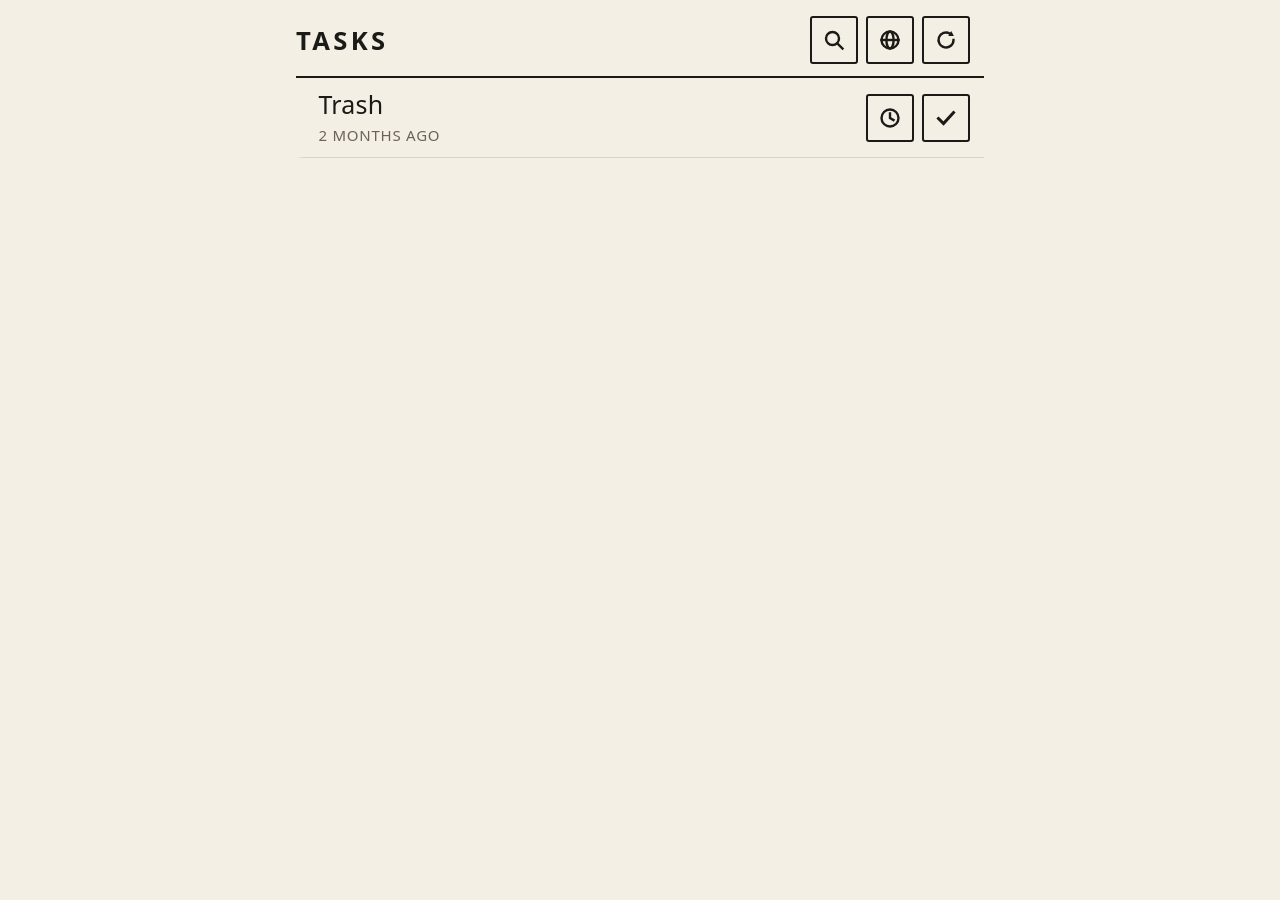
Test: App › search › says so when nothing matches
The width and height of the screenshot is (1280, 900).
Expected: the list item is shown, top-left (296, 78), bottom-right (984, 158)
Click the button named "Search tasks". click: {"x": 834, "y": 40}
box: top-left (810, 16), bottom-right (858, 64)
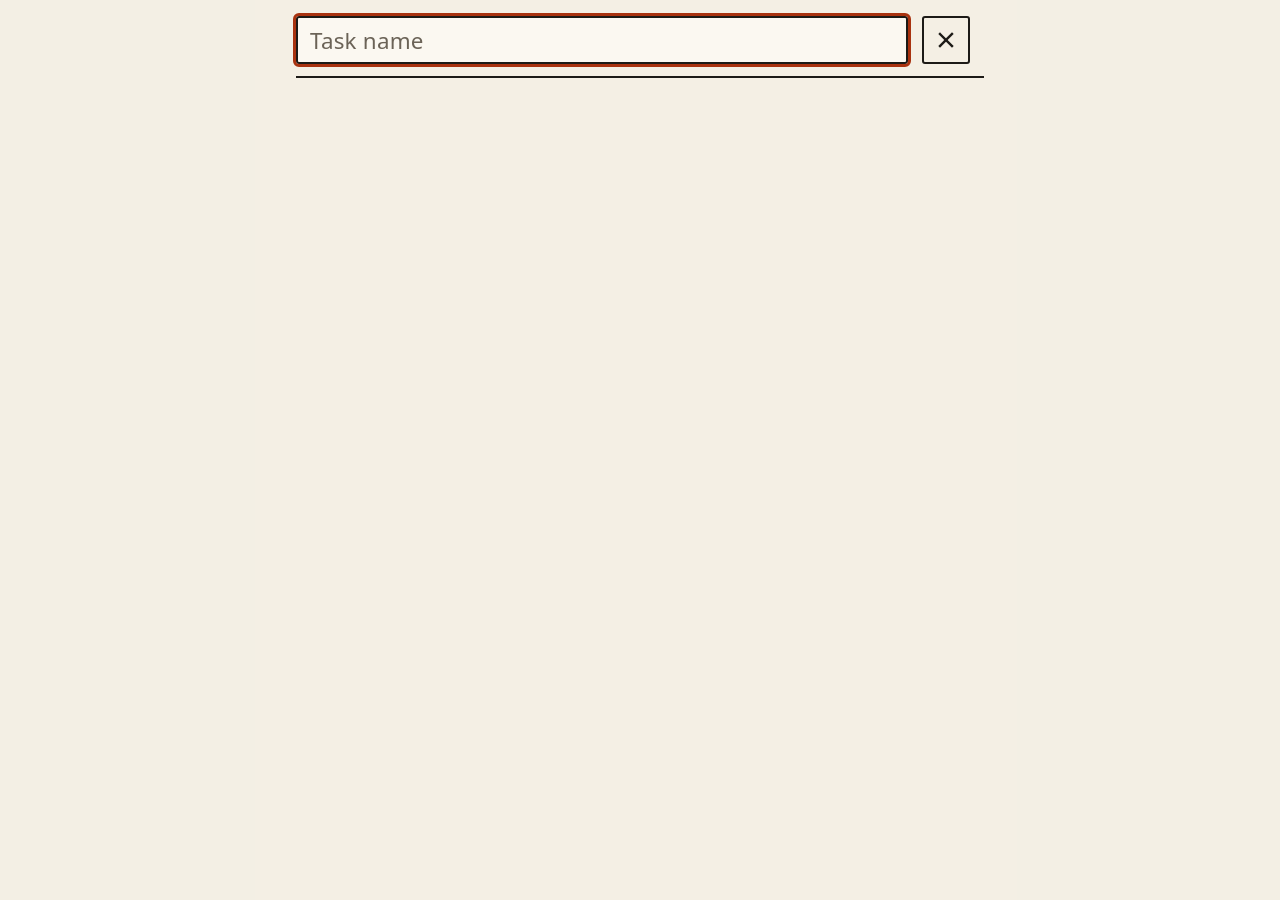
Type keys "plants"
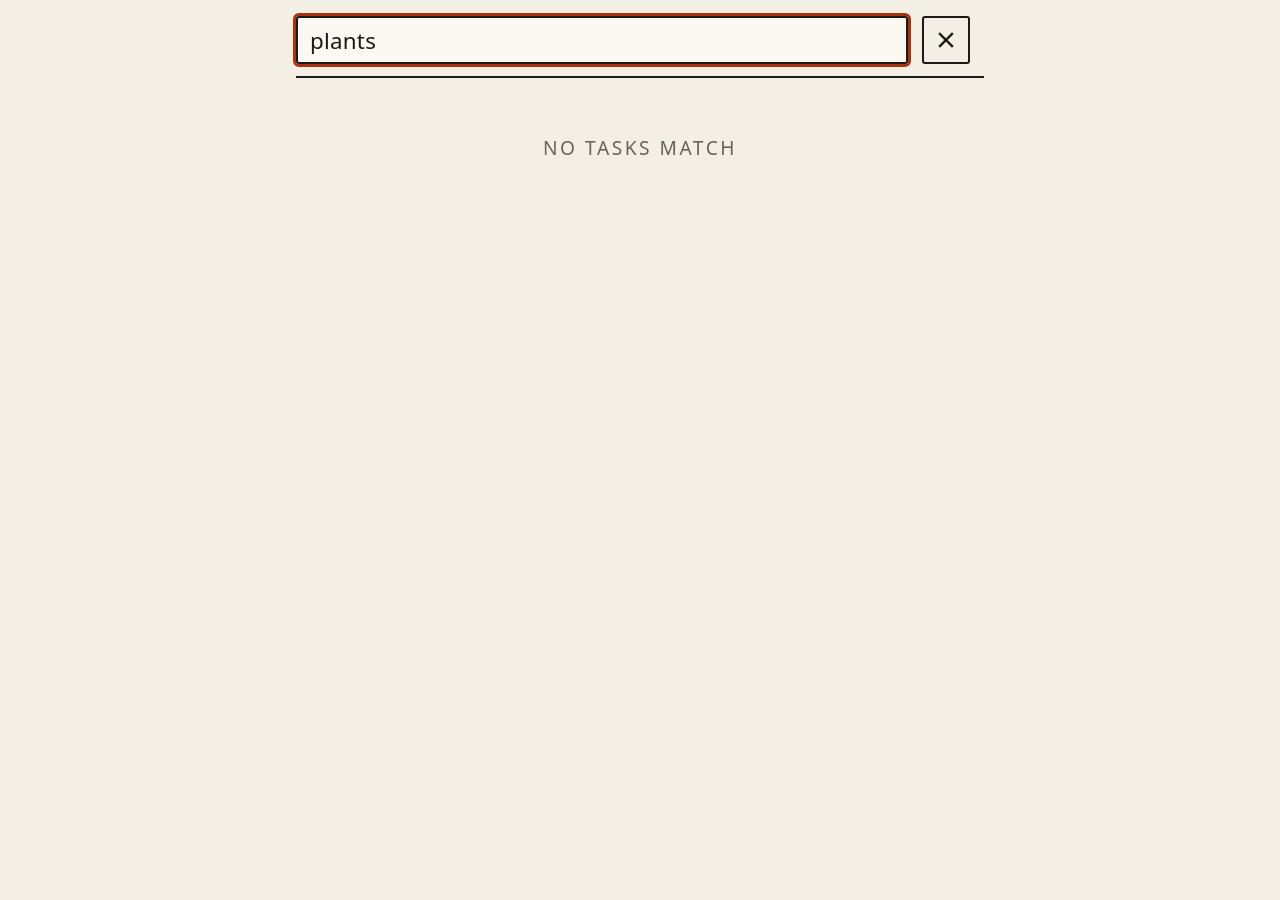
Expected: the text "No tasks match" is shown, top-left (543, 134), bottom-right (737, 161)
